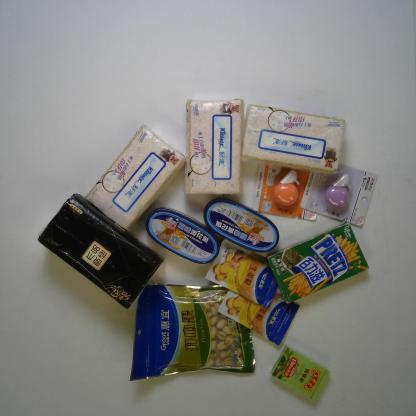Candy: (267, 344, 330, 402)
Canned Food: (201, 196, 285, 254), (140, 206, 222, 263)
Dessert: (262, 222, 372, 306)
Dried Fruit: (130, 279, 258, 382)
Seasoner: (215, 281, 301, 346), (206, 236, 283, 308)
Stationery: (298, 156, 382, 228), (251, 158, 327, 221)
Tissue: (35, 194, 166, 312), (81, 122, 191, 231), (238, 102, 354, 178), (181, 93, 251, 199)
